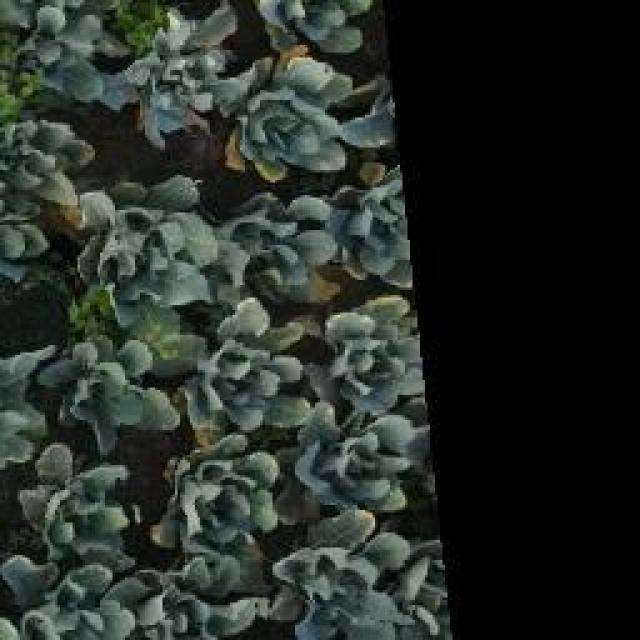cabbage: (69, 183, 231, 325), (273, 507, 413, 640), (169, 303, 302, 442), (17, 441, 146, 578), (42, 325, 183, 448), (155, 430, 286, 560), (295, 404, 434, 520), (232, 67, 345, 181), (134, 7, 232, 134), (227, 187, 339, 297), (0, 0, 119, 99), (320, 303, 425, 408)
